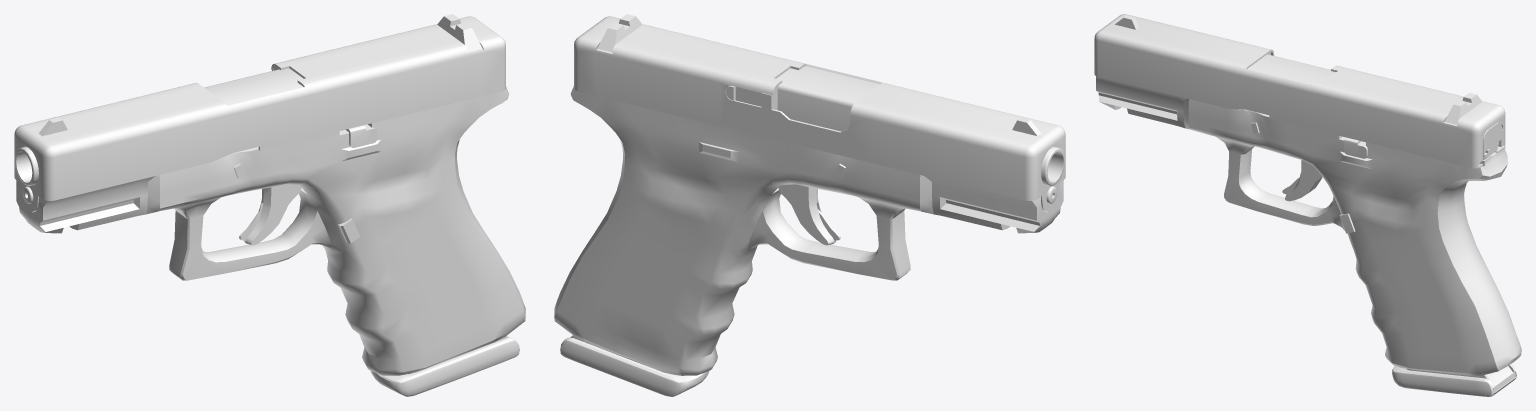
File: Glock 19.glb
3 views of the same model, side by side, from view 1: azimuth 30°, elevation 25°; view 2: azimuth 150°, elevation 25°; view 3: azimuth 330°, elevation 25° (orthographic). The views are drawn at different scales.
Parts seen in each view (by area): view 1: g_low, g2_low, m_low, Plane.001, Cube, Cube.006, Cylinder, Plane; view 2: g_low, g2_low, Plane.001, m_low, Cube, Cube.006, Cube.015, Cylinder; view 3: g_low, g2_low, m_low, Plane.001, Cube, Cube.006, Plane.003, Plane.
Part boxes in pixels (x1=…): g_low: x1=16, y1=86, x2=525, y2=375; g2_low: x1=14, y1=16, x2=505, y2=211; m_low: x1=370, y1=335, x2=519, y2=396; Plane.001: x1=204, y1=68, x2=303, y2=105; Cube: x1=243, y1=184, x2=301, y2=245; Cube.006: x1=437, y1=14, x2=482, y2=52; Cylinder: x1=15, y1=146, x2=38, y2=185; Plane: x1=345, y1=125, x2=377, y2=147; g_low: x1=554, y1=86, x2=1063, y2=375; g2_low: x1=574, y1=16, x2=1065, y2=211; Plane.001: x1=776, y1=66, x2=879, y2=131; m_low: x1=560, y1=335, x2=709, y2=396; Cube: x1=778, y1=184, x2=836, y2=245; Cube.006: x1=597, y1=14, x2=642, y2=52; Cube.015: x1=726, y1=85, x2=778, y2=110; Cylinder: x1=1041, y1=146, x2=1064, y2=185; g_low: x1=1096, y1=76, x2=1521, y2=375; g2_low: x1=1094, y1=14, x2=1505, y2=168; m_low: x1=1392, y1=364, x2=1516, y2=396; Plane.001: x1=1247, y1=54, x2=1335, y2=84; Cube: x1=1285, y1=160, x2=1322, y2=201; Cube.006: x1=1444, y1=93, x2=1482, y2=124; Plane.003: x1=1483, y1=122, x2=1502, y2=159; Plane: x1=1344, y1=137, x2=1367, y2=158.
Bounding box in the file's own units: 0.4107 × 0.2774 × 0.0536.
1 material, 1 textured.
